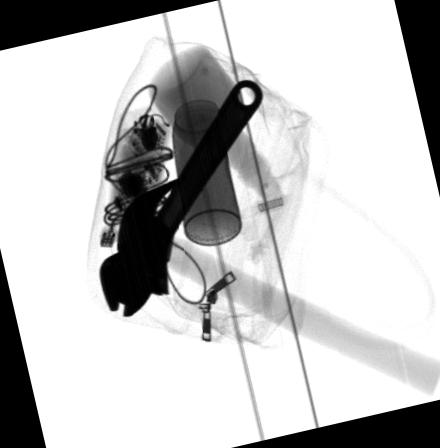Hammer: (117, 175, 440, 396)
Wrench: (98, 77, 262, 317)
